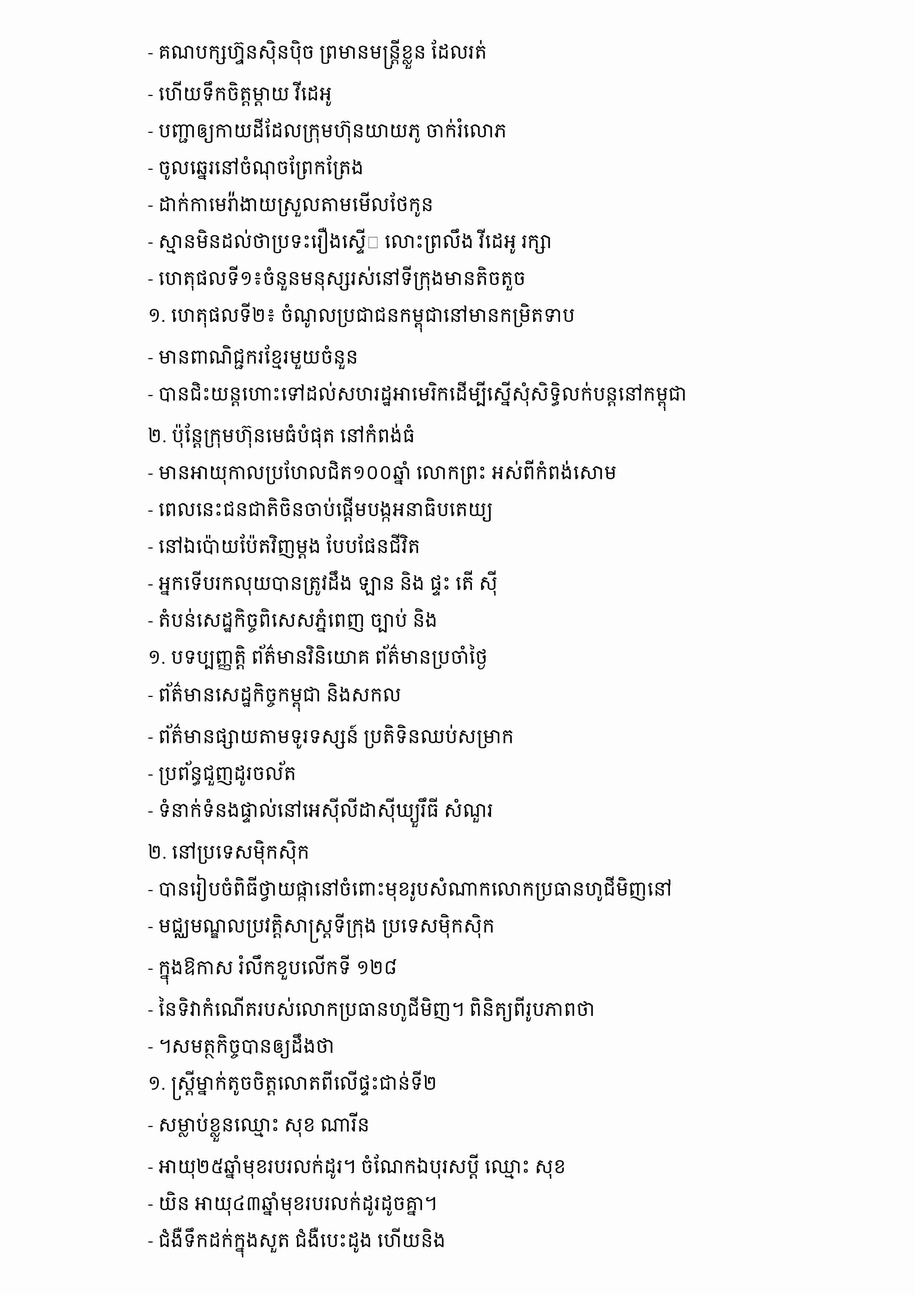text: (148, 381, 692, 411), (148, 874, 677, 901), (148, 302, 580, 333), (148, 460, 622, 485), (148, 996, 600, 1022), (148, 227, 557, 254), (148, 797, 498, 828), (148, 1154, 571, 1179), (148, 913, 500, 943), (148, 39, 492, 69), (148, 265, 531, 291), (148, 723, 519, 749), (148, 1227, 450, 1258), (148, 570, 503, 596), (148, 118, 512, 143), (148, 644, 493, 670), (148, 1070, 442, 1100), (148, 497, 498, 522), (148, 681, 406, 712), (148, 955, 402, 985), (148, 191, 438, 217), (148, 608, 442, 633), (148, 1191, 442, 1216), (148, 533, 425, 559), (148, 423, 420, 448), (148, 1112, 374, 1142), (148, 344, 363, 370), (148, 155, 369, 180), (148, 1033, 339, 1059), (148, 81, 337, 106), (148, 840, 314, 865), (148, 760, 301, 786)
